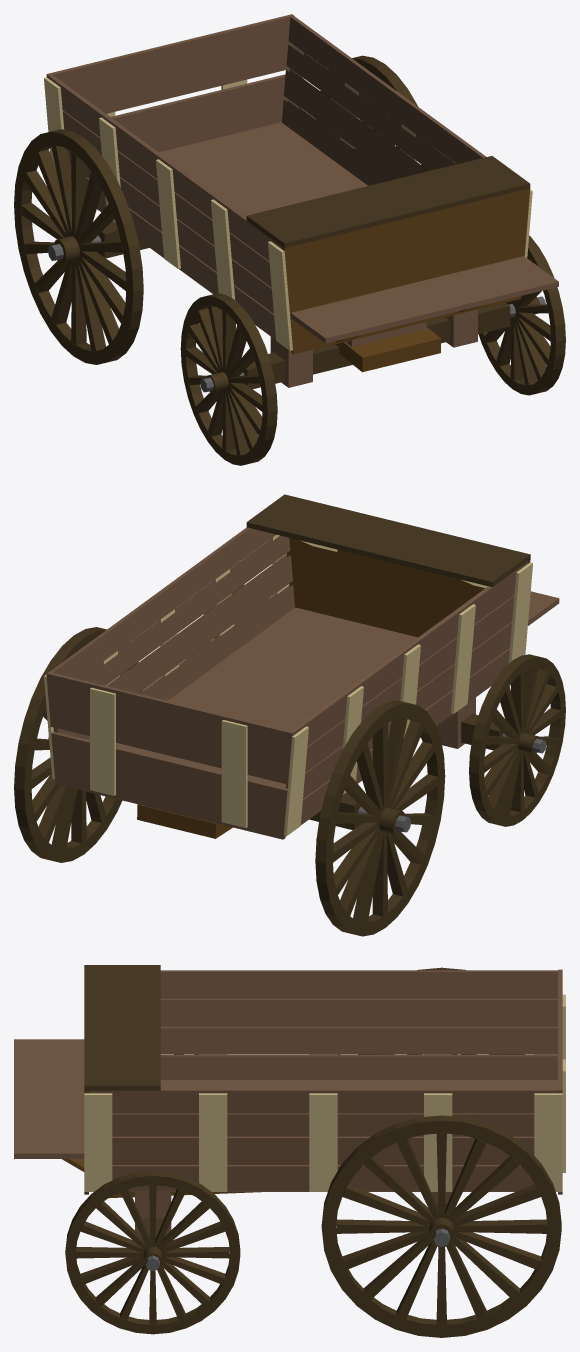
File: WagonPractice.fbx
3 views of the same model, one above another, from view 1: azimuth 30°, elevation 25°; view 2: azimuth 150°, elevation 25°; view 3: azimuth 270°, elevation 25° (orthographic).
Parts seen in each view (by area): view 1: Back Wheel.R, Base.B, Base.F, Base.L, Base.R, Front Wheel.R, Seat, Base, Foot Rest, Front Wheel.L, Wheel Base, Front Axel Support (+9 smaller); view 2: Back Wheel.R, Base.B, Base.L, Base, Base.R, Front Wheel.R, Base.F, Seat, Back Wheel.L, Plank Support.010, Plank Support.011, Plank Support.006 (+8 smaller); view 3: Base.R, Base.L, Back Wheel.L, Front Wheel.L, Seat, Foot Rest, Base, Plank Support.004, Plank Support.003, Plank Support, Plank Support.001, Plank Support.002 (+2 smaller).
Boxes of the visible parts, x1,y1,x2,y2 form: Back Wheel.R: (14, 129, 143, 364); Base.B: (46, 14, 294, 151); Base.F: (282, 188, 530, 354); Base.L: (282, 16, 486, 185); Base.R: (49, 75, 282, 339); Front Wheel.R: (180, 293, 277, 465); Seat: (246, 156, 530, 248); Base: (159, 122, 367, 216); Foot Rest: (290, 256, 558, 343); Front Wheel.L: (478, 235, 565, 395); Wheel Base: (335, 327, 441, 372); Front Axel Support: (243, 302, 510, 389); Back Wheel.R: (315, 700, 445, 936); Base.B: (46, 672, 294, 839); Base.L: (49, 527, 294, 740); Base: (116, 607, 417, 787); Base.R: (285, 561, 527, 825); Front Wheel.R: (469, 654, 565, 826); Base.F: (286, 538, 530, 637); Seat: (246, 494, 530, 587); Back Wheel.L: (14, 627, 142, 862); Plank Support.010: (221, 720, 247, 827); Plank Support.011: (90, 687, 115, 795); Plank Support.006: (284, 726, 308, 836); Base.R: (160, 970, 557, 1079); Base.L: (89, 1088, 557, 1190); Back Wheel.L: (321, 1115, 561, 1337); Front Wheel.L: (65, 1171, 240, 1334); Seat: (84, 965, 160, 1090); Foot Rest: (14, 1039, 84, 1158); Base: (112, 1080, 557, 1191); Plank Support.004: (199, 1093, 227, 1191); Plank Support.003: (84, 1093, 112, 1191); Plank Support: (309, 1093, 337, 1191); Plank Support.001: (534, 1093, 562, 1191); Plank Support.002: (424, 1093, 452, 1191).
Bounding box in the file's own units: 290 × 184 × 389.
